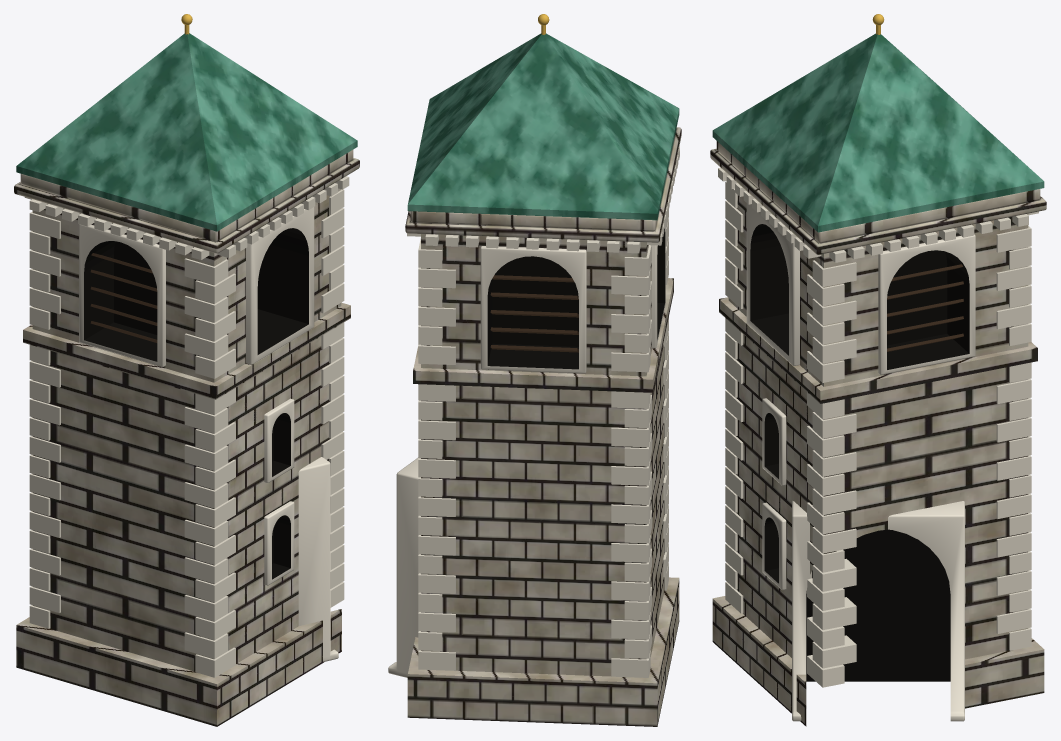
Rendered from bell-tower.glb.
3 views of the same model, side by side, from view 1: azimuth 30°, elevation 25°; view 2: azimuth 150°, elevation 25°; view 3: azimuth 270°, elevation 25° (orthographic). The views are drawn at different scales.
Visible parts, largest first — view 1: tower.001, quoins, roof.002, hole-frame.002, door-frame.006, window-frame.006, window-frame.007, window-frame.008, louvres; view 2: tower.001, roof.002, quoins, window-frame.005, door-frame.006, louvres, window-frame.006; view 3: tower.001, quoins, roof.002, door-frame.006, hole-frame.002, window-frame.004, window-frame.008, window-frame.007, louvres.
Boxes of the visible parts, bbox=[...] form: tower.001: bbox=[14, 150, 359, 726]; quoins: bbox=[24, 176, 349, 677]; roof.002: bbox=[16, 33, 357, 231]; hole-frame.002: bbox=[246, 207, 314, 364]; door-frame.006: bbox=[298, 457, 338, 661]; window-frame.006: bbox=[79, 224, 165, 366]; window-frame.007: bbox=[264, 501, 294, 585]; window-frame.008: bbox=[264, 398, 294, 482]; louvres: bbox=[90, 253, 157, 342]; tower.001: bbox=[405, 127, 681, 726]; roof.002: bbox=[407, 33, 679, 220]; quoins: bbox=[407, 146, 679, 677]; window-frame.005: bbox=[480, 246, 586, 373]; door-frame.006: bbox=[388, 457, 418, 677]; louvres: bbox=[490, 275, 578, 352]; window-frame.006: bbox=[651, 226, 665, 348]; tower.001: bbox=[710, 141, 1046, 726]; quoins: bbox=[718, 167, 1038, 687]; roof.002: bbox=[712, 33, 1044, 232]; door-frame.006: bbox=[792, 500, 964, 721]; hole-frame.002: bbox=[746, 203, 799, 365]; window-frame.004: bbox=[878, 234, 975, 374]; window-frame.008: bbox=[762, 398, 786, 485]; window-frame.007: bbox=[762, 502, 811, 589]; louvres: bbox=[887, 264, 963, 351].
Size of the model in its own units: 7 by 15 by 7.
Materials: 19 (2 with a texture image).
